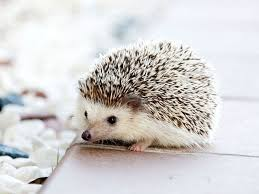hedgehog: (75, 40, 214, 152)
